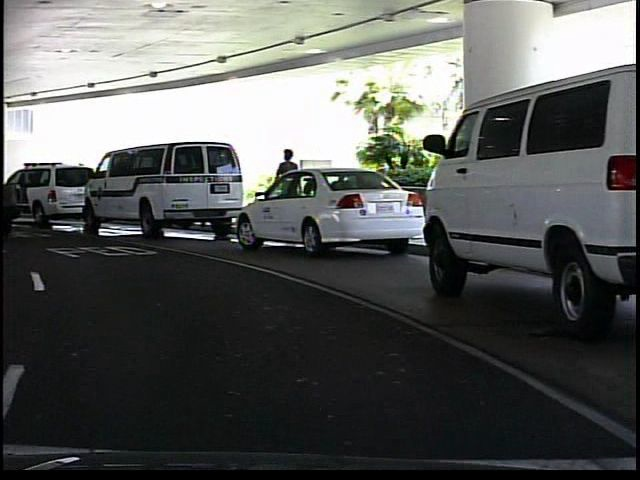person: (271, 144, 302, 229)
